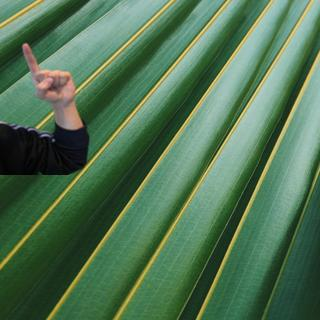IRRITATED: (19, 40, 78, 104)
